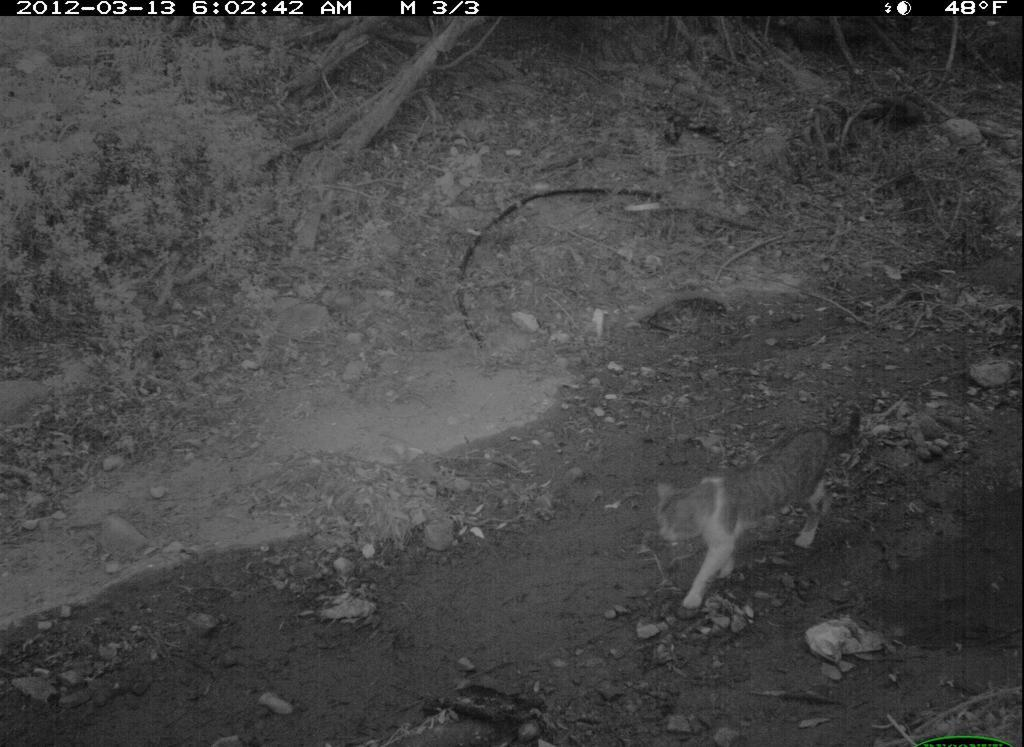cat: (643, 399, 875, 616)
